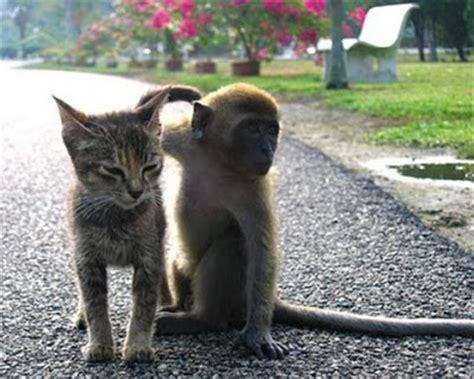cat: (50, 94, 169, 362)
monkey: (161, 83, 474, 358)
